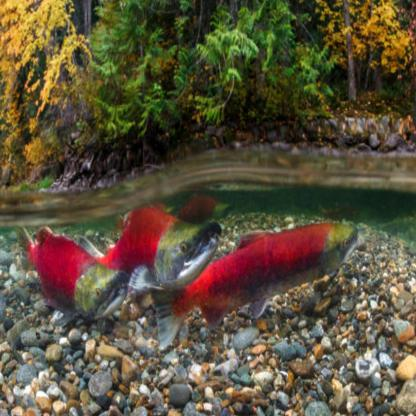sockeye: (217, 214, 362, 328), (98, 209, 219, 288), (24, 224, 118, 321)
